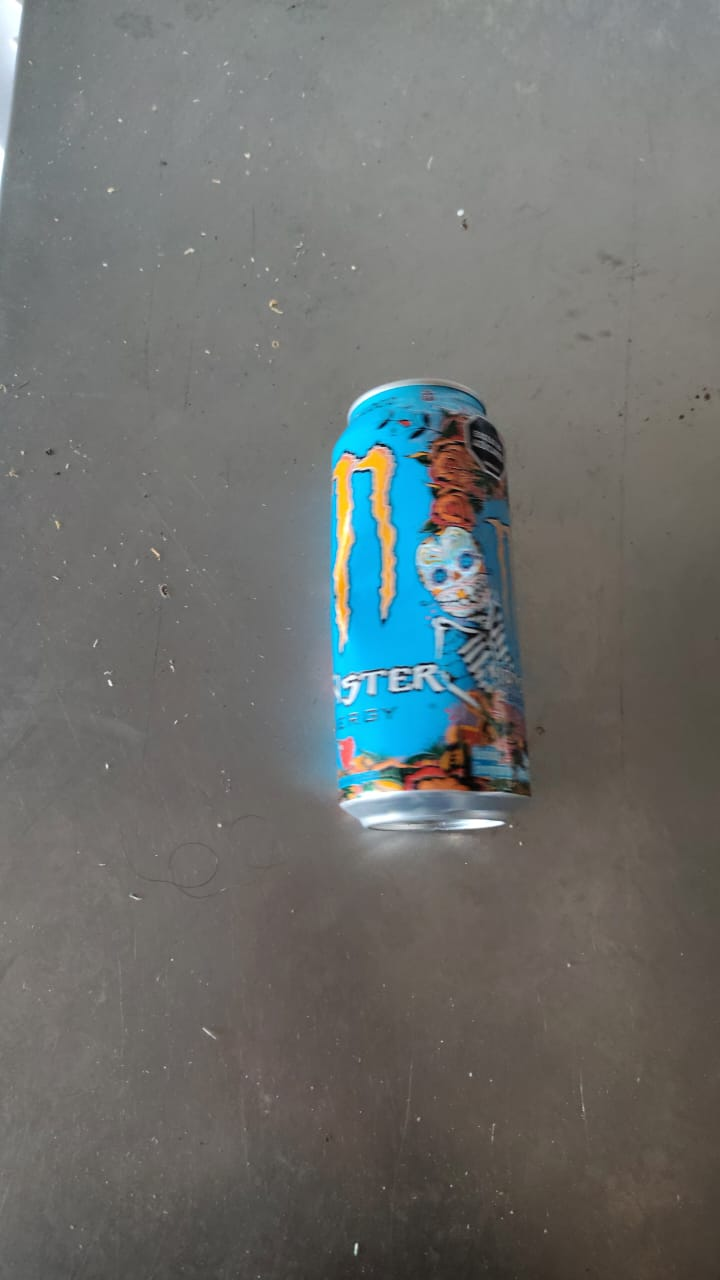Metal: (332, 378, 530, 834)
